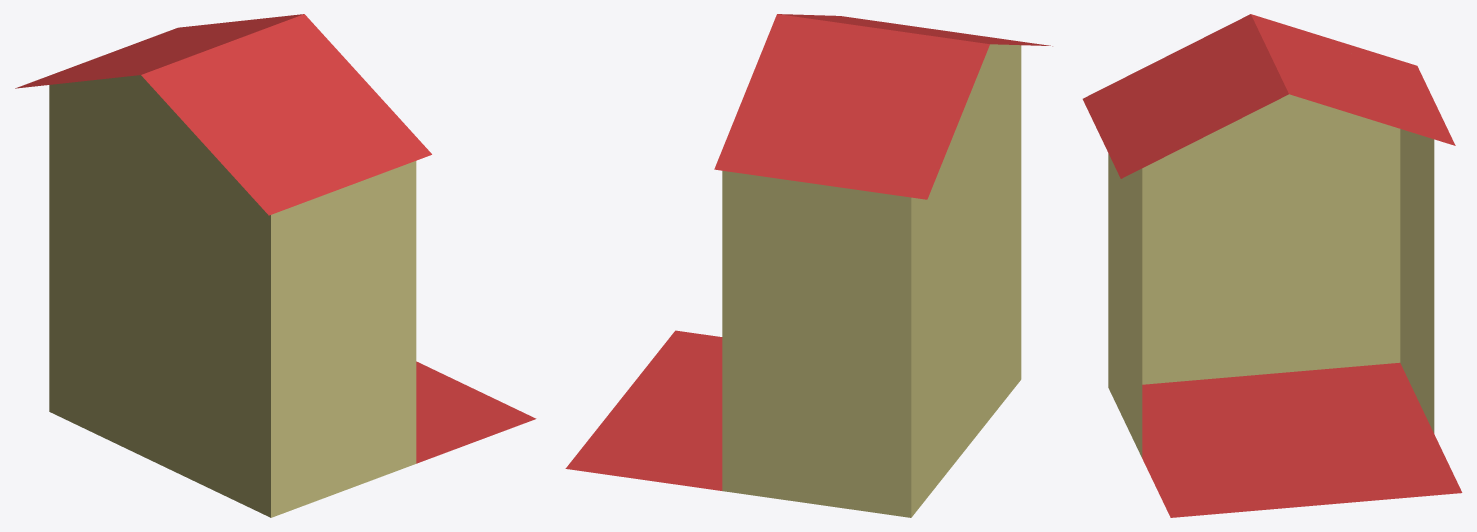
3 renders of one model, left to right at view 1: azimuth 30°, elevation 25°; view 2: azimuth 150°, elevation 25°; view 3: azimuth 270°, elevation 25°, orthographic. The views are drawn at different scales.
Bounding box in the file's own units: 8.95 × 8.65 × 8.84.
